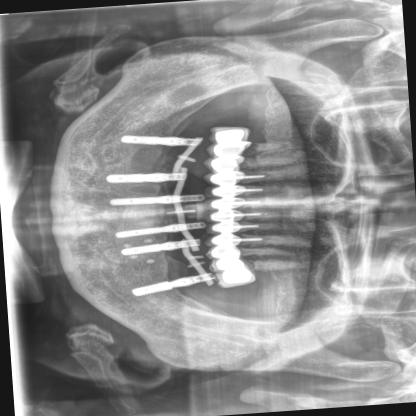ITI: (131, 280, 174, 297), (120, 132, 159, 148), (106, 172, 146, 186), (114, 227, 162, 238), (119, 244, 162, 256), (109, 196, 155, 207)
